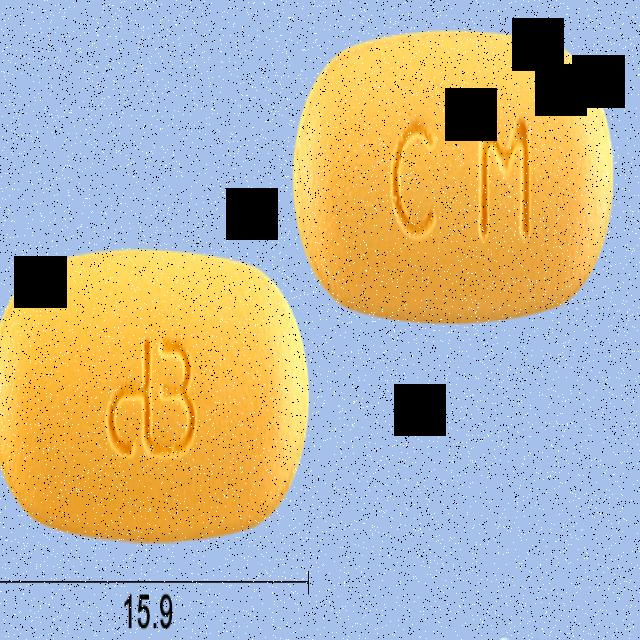Claridon: (290, 24, 617, 333), (0, 238, 311, 549)
